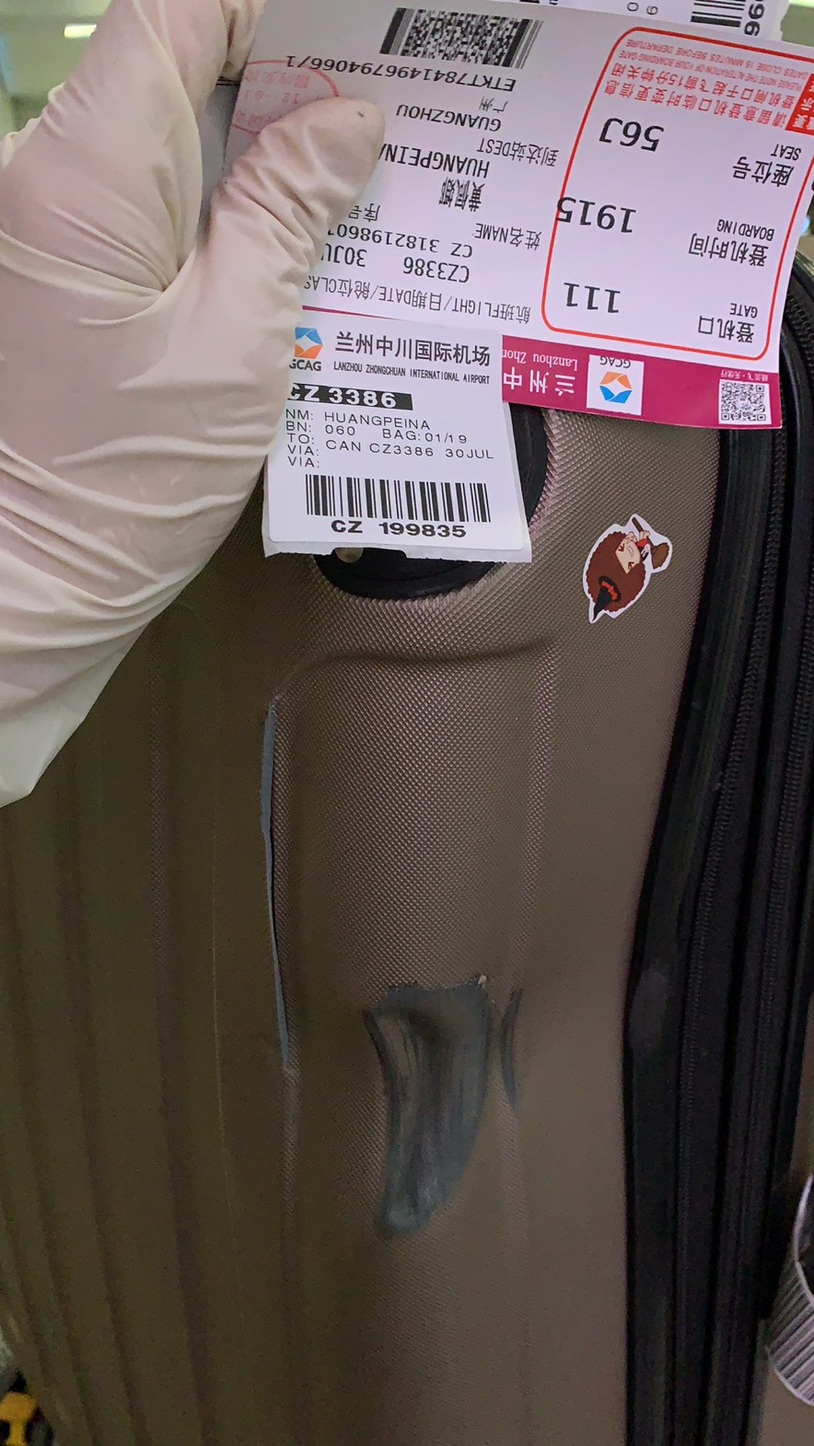rupture: (308, 974, 565, 1235)
scratch: (254, 706, 292, 1068)
